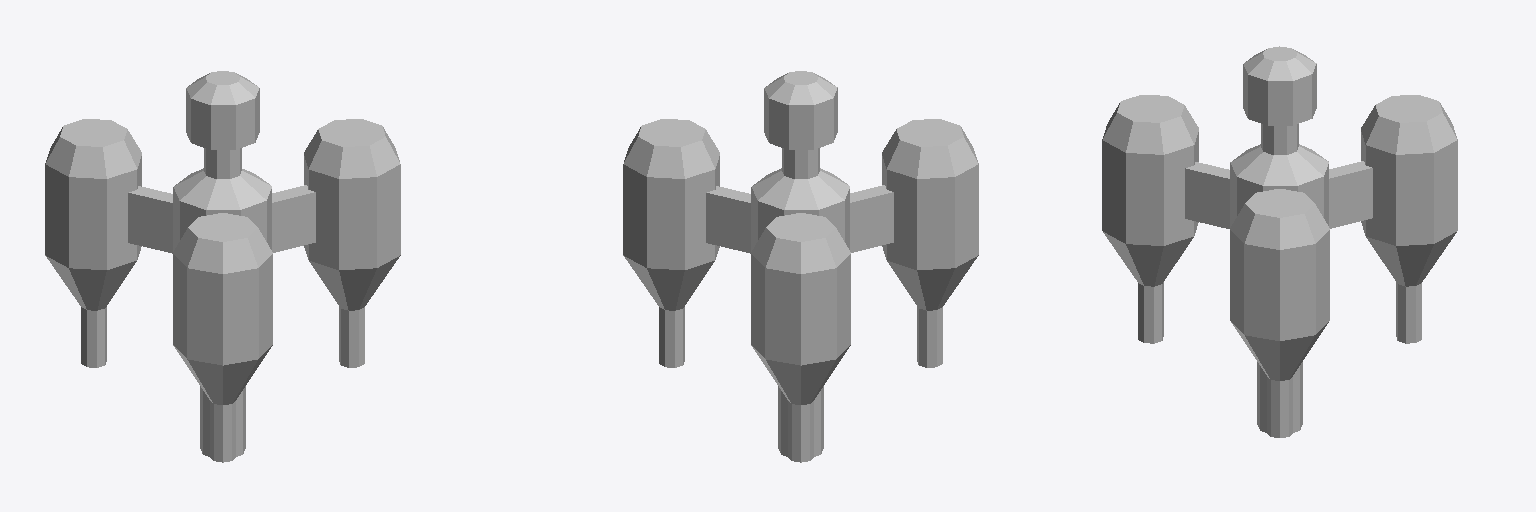
Rendered from workbench.obj.
The picture shows the model from 3 angles: view 1: azimuth 30°, elevation 25°; view 2: azimuth 150°, elevation 25°; view 3: azimuth 270°, elevation 25°; orthographic projection.
Parts seen in each view (by area): view 1: Cube; view 2: Cube; view 3: Cube.
Boxes of the visible parts, x1,y1,x2,y2 form: Cube: [45, 71, 400, 462]; Cube: [623, 71, 978, 462]; Cube: [1102, 46, 1457, 437].
Bounding box in the file's own units: 6.41 × 8.15 × 7.07.